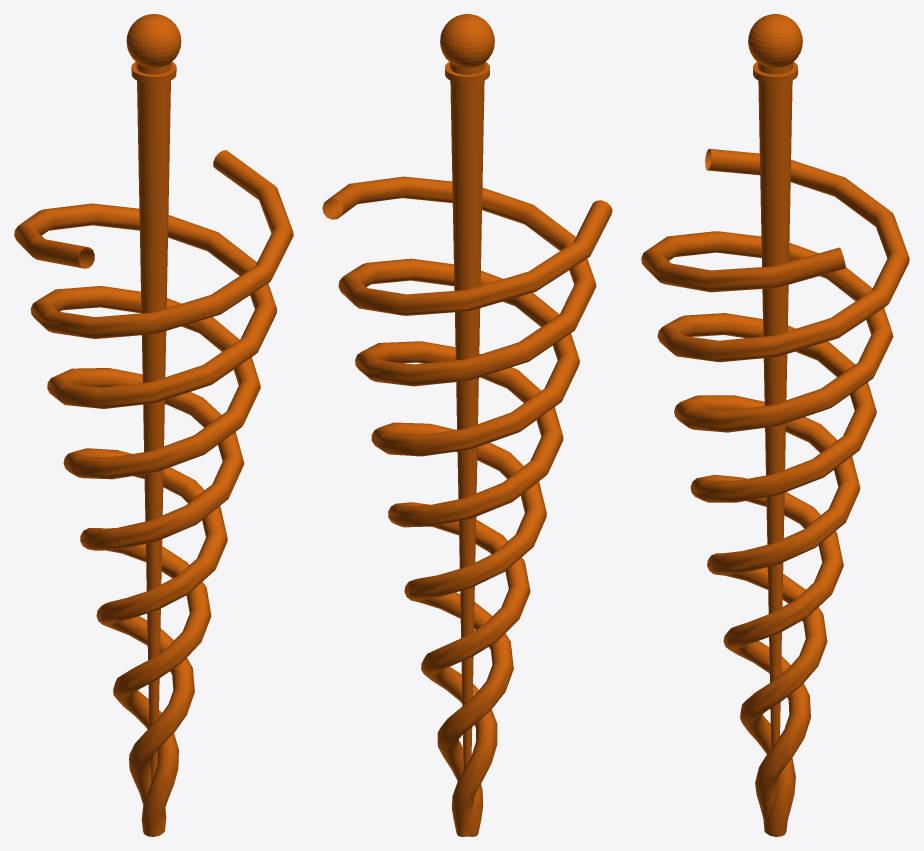
File: caduceus.obj
The picture shows the model from 3 angles, left to right: view 1: azimuth 30°, elevation 25°; view 2: azimuth 150°, elevation 25°; view 3: azimuth 270°, elevation 25°; orthographic projection.
Parts seen in each view (by area): view 1: Cylinder; view 2: Cylinder; view 3: Cylinder.
Boxes of the visible parts, left/top/right/bottom form: Cylinder: left=14, top=14, right=293, bottom=836; Cylinder: left=322, top=14, right=612, bottom=836; Cylinder: left=641, top=14, right=909, bottom=836.
Bounding box in the file's own units: 10.4 × 32.83 × 9.79.
